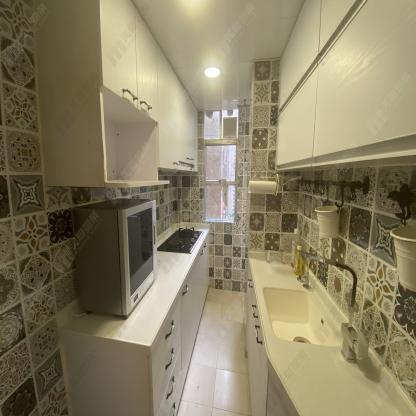Cupboard: (30, 1, 203, 188), (275, 1, 414, 171), (148, 231, 212, 416)
Exhaust Fan: (223, 117, 238, 139)
Faucet: (302, 248, 370, 370)
Sink: (263, 288, 343, 349)
Stove: (159, 228, 201, 253)
